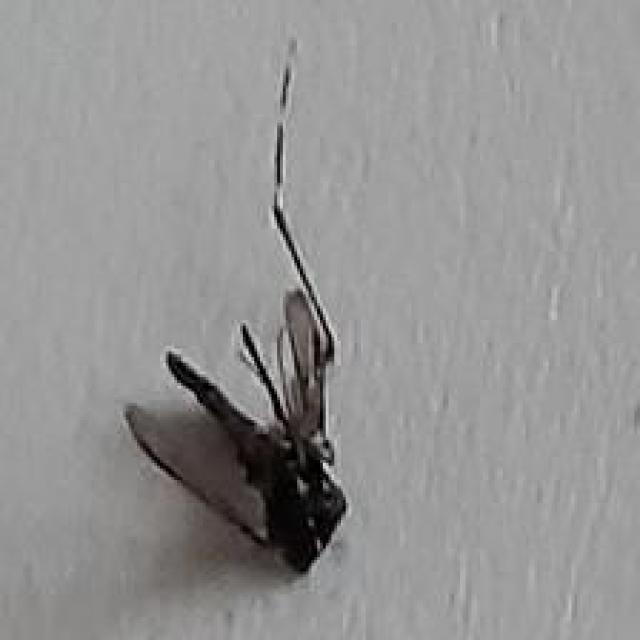Aedes albopictus: (121, 34, 350, 574)
